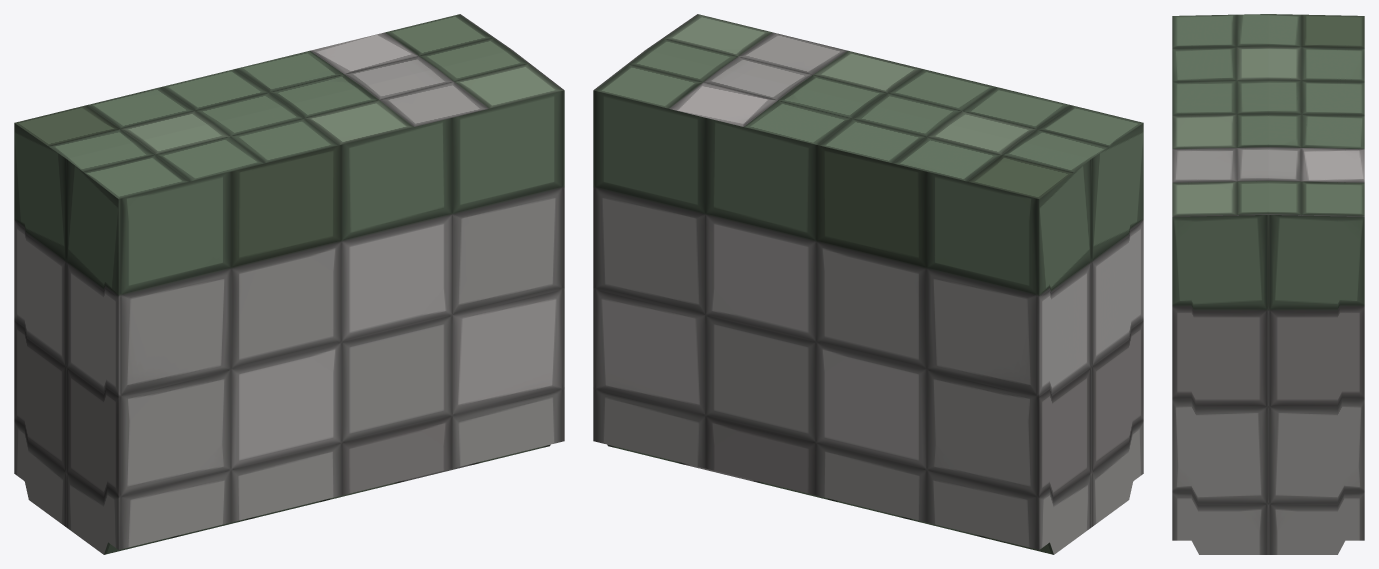
File: SM_Bld_Archway_Middle_01.fbx
3 views of the same model, side by side, from view 1: azimuth 30°, elevation 25°; view 2: azimuth 150°, elevation 25°; view 3: azimuth 270°, elevation 25° (orthographic). The views are drawn at different scales.
Visible parts, largest first — view 1: SM_Bld_Archway_Middle_01; view 2: SM_Bld_Archway_Middle_01; view 3: SM_Bld_Archway_Middle_01.
Boxes of the visible parts, x1=… form: SM_Bld_Archway_Middle_01: x1=14, y1=14, x2=564, y2=554; SM_Bld_Archway_Middle_01: x1=593, y1=14, x2=1143, y2=554; SM_Bld_Archway_Middle_01: x1=1172, y1=14, x2=1364, y2=554.
Bounding box in the file's own units: 125 × 98.68 × 50.62.
